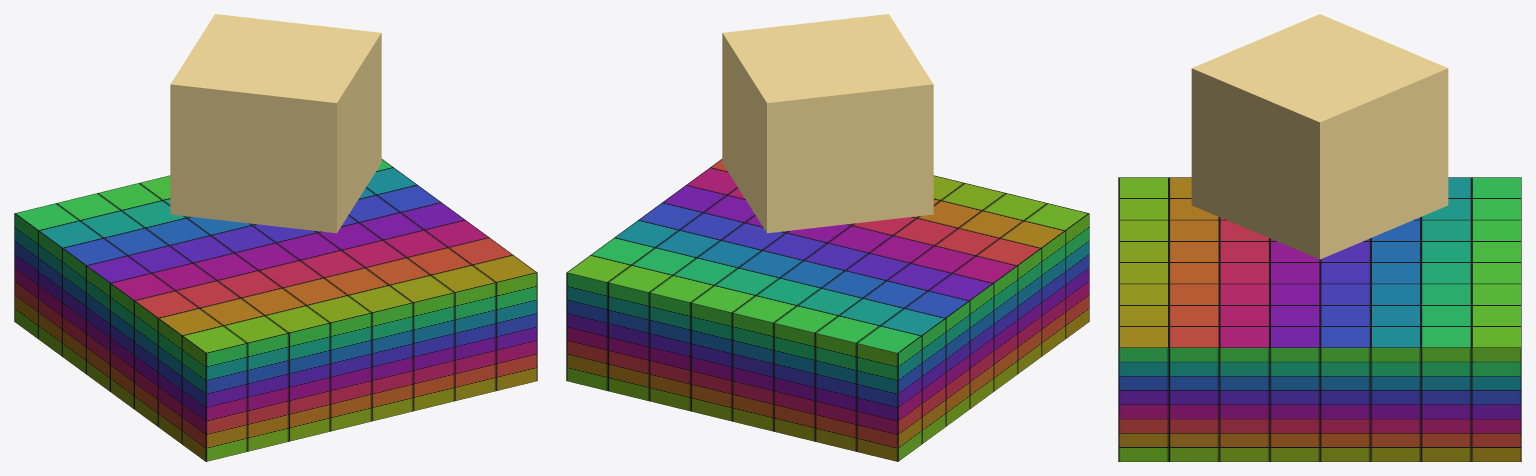
Rendered from monument.gltf.
3 renders of one model, left to right at view 1: azimuth 30°, elevation 25°; view 2: azimuth 150°, elevation 25°; view 3: azimuth 270°, elevation 25°, orthographic. The views are drawn at different scales.
Parts seen in each view (by area): view 1: Pedestal, Topper; view 2: Pedestal, Topper; view 3: Pedestal, Topper.
Part boxes in pixels (bbox=[...]): Pedestal: bbox=[14, 159, 537, 461]; Topper: bbox=[170, 14, 381, 233]; Pedestal: bbox=[566, 159, 1089, 461]; Topper: bbox=[722, 14, 933, 233]; Pedestal: bbox=[1118, 177, 1521, 461]; Topper: bbox=[1191, 14, 1448, 259].
Bounding box in the file's own units: 1.6 × 1.35 × 1.6.
2 materials, 1 textured.
